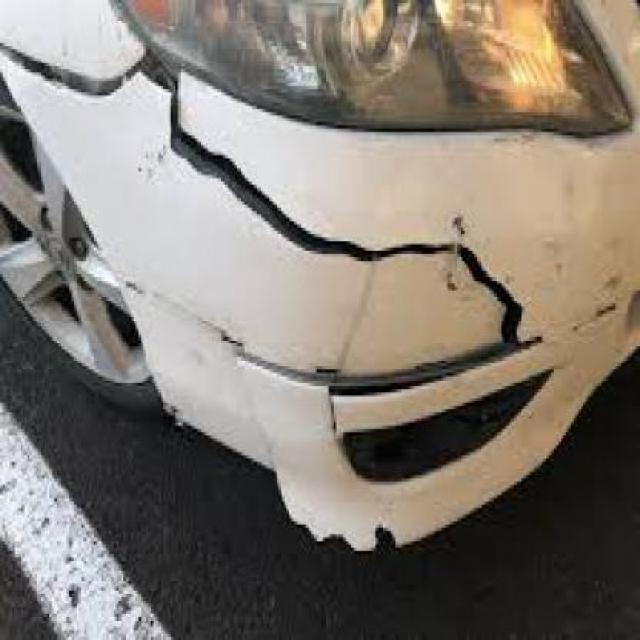damaged-front-bumper: (3, 53, 639, 556)
